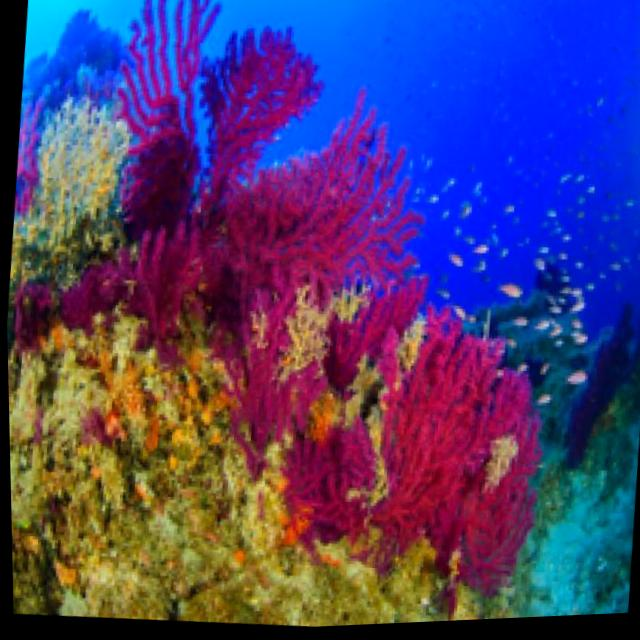Healthy Coral: (84, 0, 424, 354), (348, 263, 601, 595), (6, 324, 212, 596), (3, 5, 135, 286), (206, 290, 337, 468), (269, 406, 377, 561)
